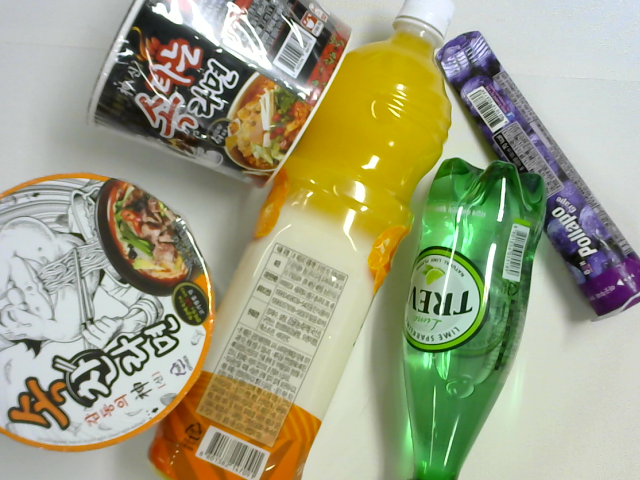HeJangsock: (85, 1, 355, 188)
Hejangchan: (1, 174, 216, 445)
Jeju_Tangerine_1.5L: (147, 1, 459, 479)
Polapo_Grape: (435, 26, 640, 323)
Treviraim_500ml: (402, 160, 549, 480)
